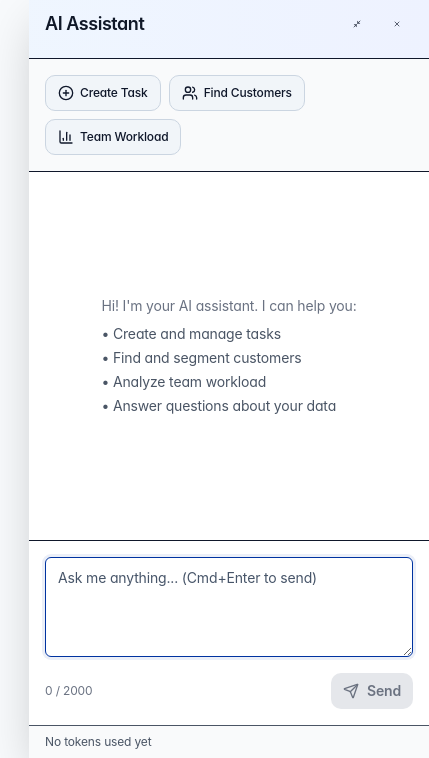
Scenario: AgentPanel › character counter › should show current character count
The image size is (429, 758).
In the text box: (229, 607) [45, 557, 413, 657], type "Hello"
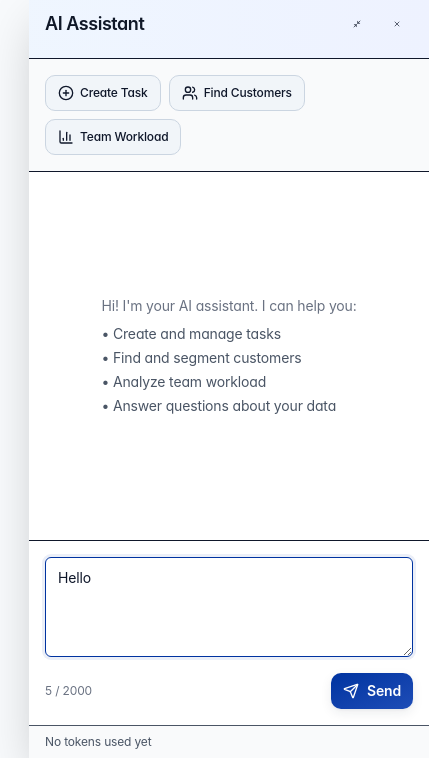
Expected: the text "5 / 2000" is shown, [45, 683, 92, 699]
